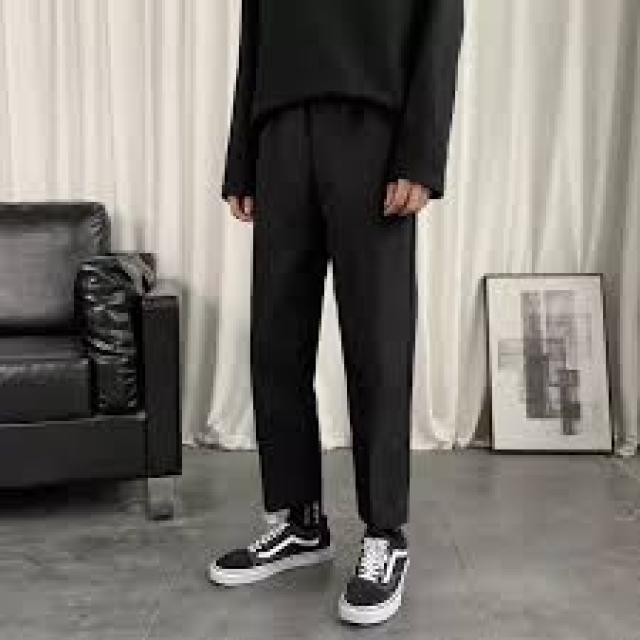pants: (238, 92, 435, 534)
